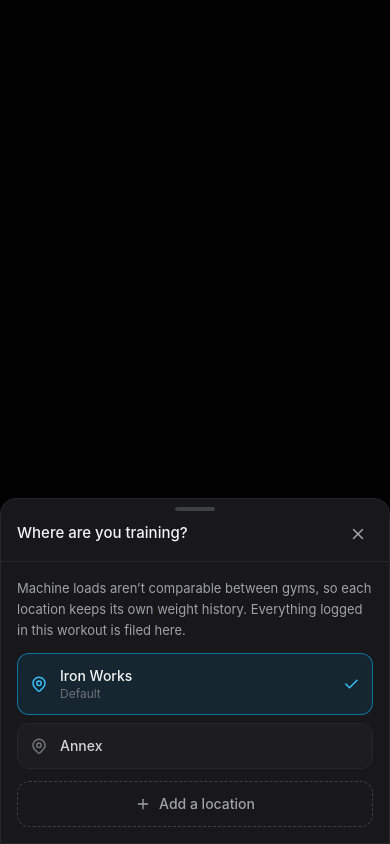
Test: LocationPickerSheet — inline creation › surfaces a failed create instead of closing over it
This screenshot has width=390, height=844.
Click the button with test id "location-add-trigger" at [195, 804], box [17,781,373,827]
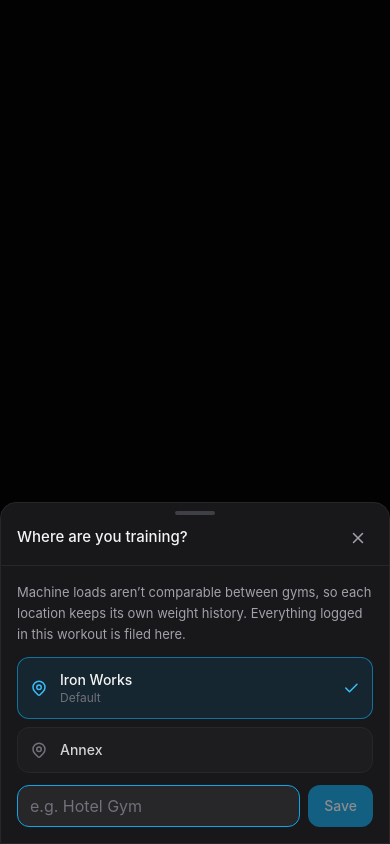
Type "Hotel Gym" into the field with test id "location-new-name" at [159, 806], box [17,785,300,827]
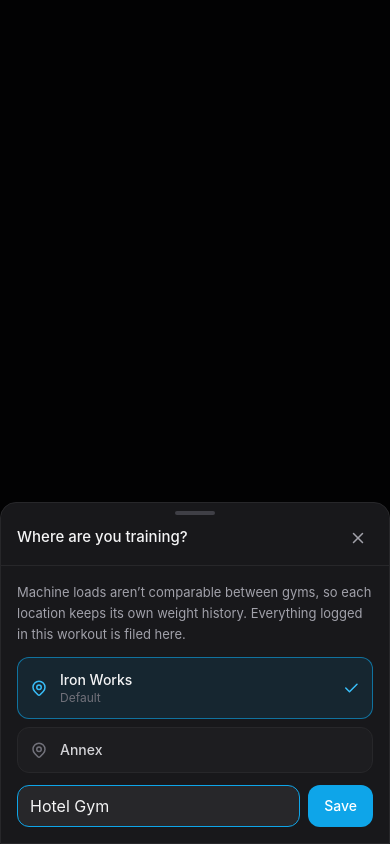
Click the button "Save" at [341, 806], box [308,785,373,827]
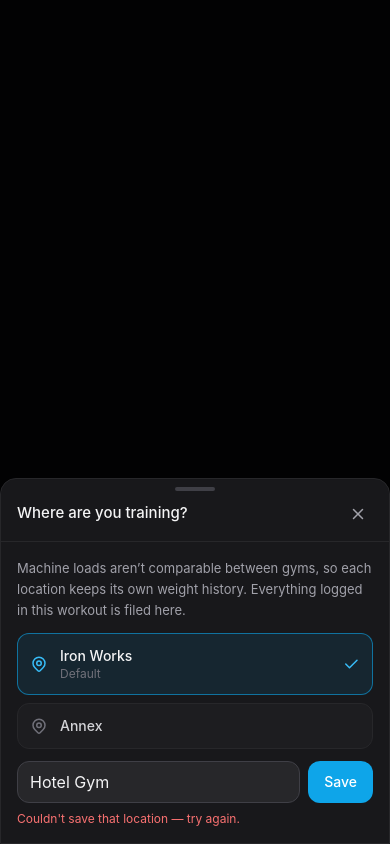
Check: the text "Couldn't save that location — try again." is shown, box [17,811,240,826]
